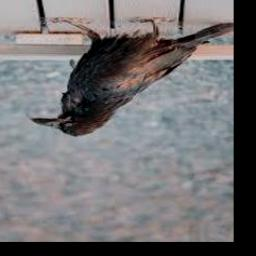Crow: (30, 17, 234, 137)
